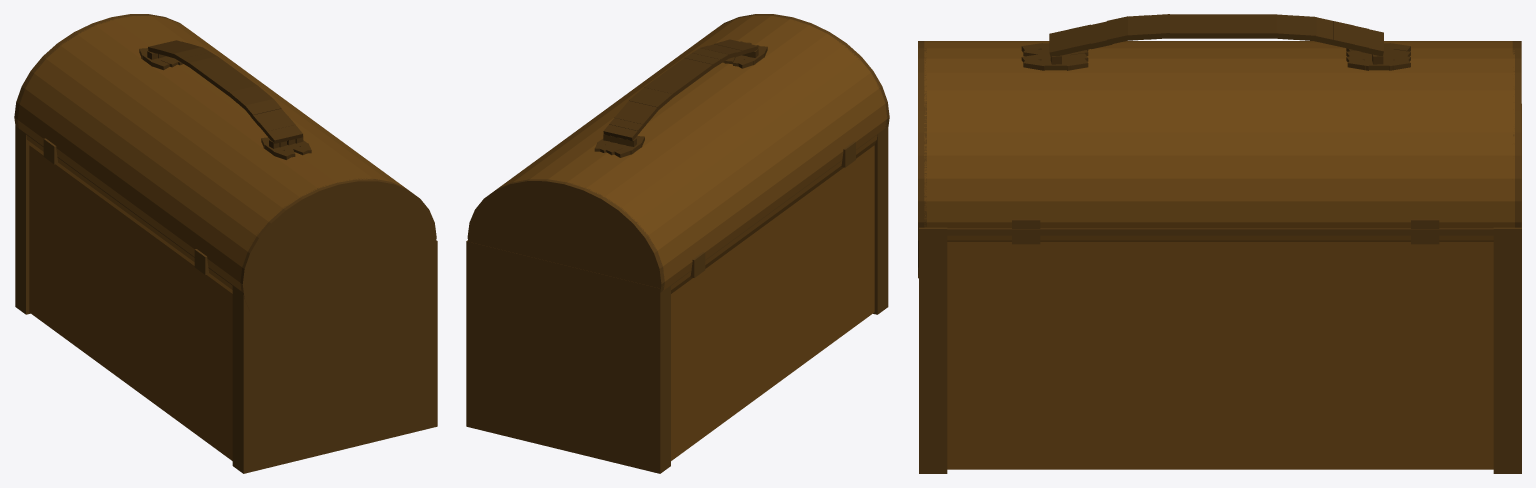
File: HandBagage.fbx
The picture shows the model from 3 angles, left to right: view 1: azimuth 30°, elevation 25°; view 2: azimuth 150°, elevation 25°; view 3: azimuth 270°, elevation 25°; orthographic projection. The views are drawn at different scales.
Parts seen in each view (by area): view 1: Cylinder, Cube, Cube.001, Cylinder.001, Cube.005, Cylinder.002; view 2: Cylinder, Cube.005, Cube, Cylinder.002, Cube.001, Cylinder.001; view 3: Cube, Cylinder, Cube.005, Cube.001, Cube.002, Cylinder.001, Cylinder.002.
Part boxes in pixels (x1,y1,x2,y2): Cylinder: [17, 16, 406, 293]; Cube: [29, 145, 232, 460]; Cube.001: [232, 240, 437, 473]; Cylinder.001: [240, 178, 436, 340]; Cube.005: [15, 126, 30, 314]; Cylinder.002: [14, 14, 181, 128]; Cylinder: [495, 15, 887, 293]; Cube.005: [466, 240, 670, 473]; Cube: [671, 145, 874, 460]; Cylinder.002: [467, 179, 664, 292]; Cube.001: [873, 126, 888, 314]; Cylinder.001: [722, 14, 889, 127]; Cube: [947, 241, 1493, 469]; Cylinder: [924, 41, 1514, 241]; Cube.005: [1493, 104, 1521, 473]; Cube.001: [919, 227, 947, 473]; Cube.002: [941, 228, 1506, 235]; Cylinder.001: [918, 41, 926, 278]; Cylinder.002: [1512, 41, 1521, 227].
Bounding box in the file's own units: 26.41 × 37.49 × 53.04.
